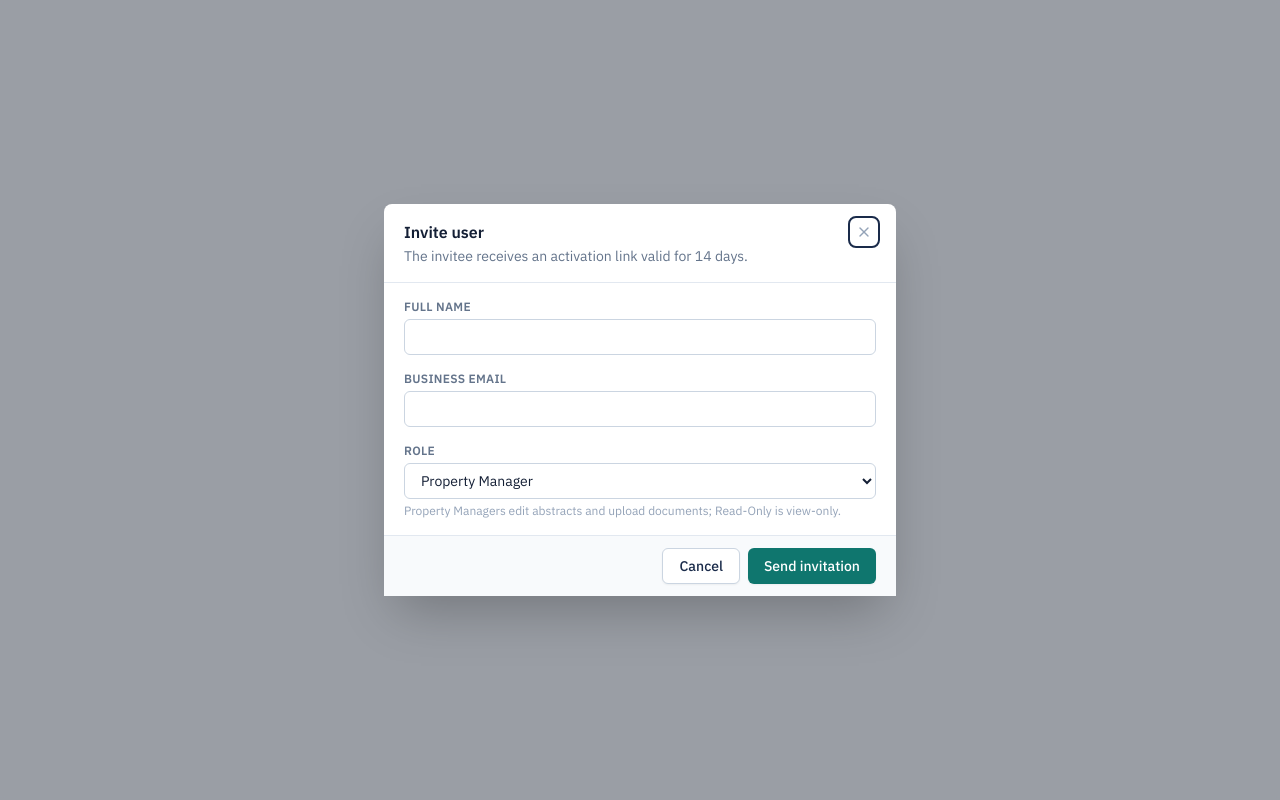
InviteUserModal › rejects malformed emails with an inline error
Step 1. Type "Dana Okafor" into the field with id "invite-name" → (640, 337), box [404,319,876,355]
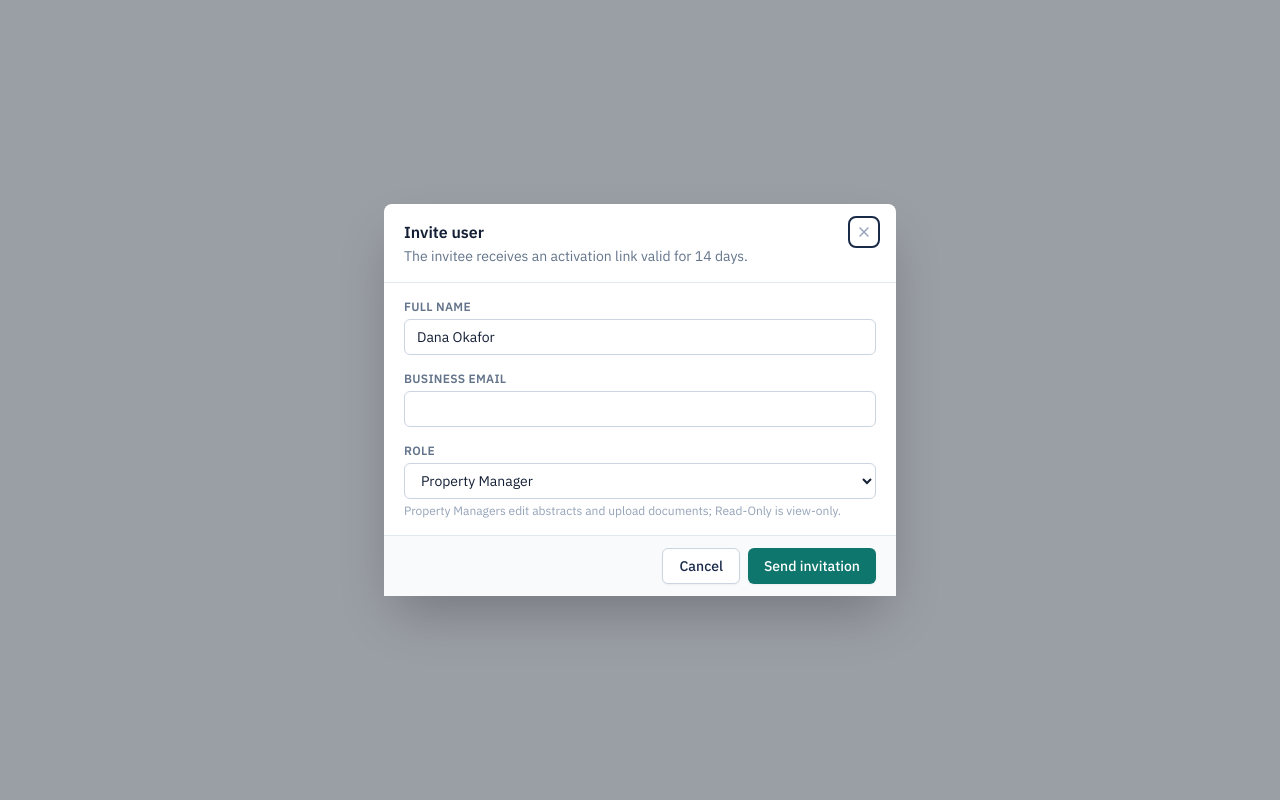
Step 2. Type "dana@leasevault" into the field with id "invite-email" → (640, 409), box [404,391,876,427]
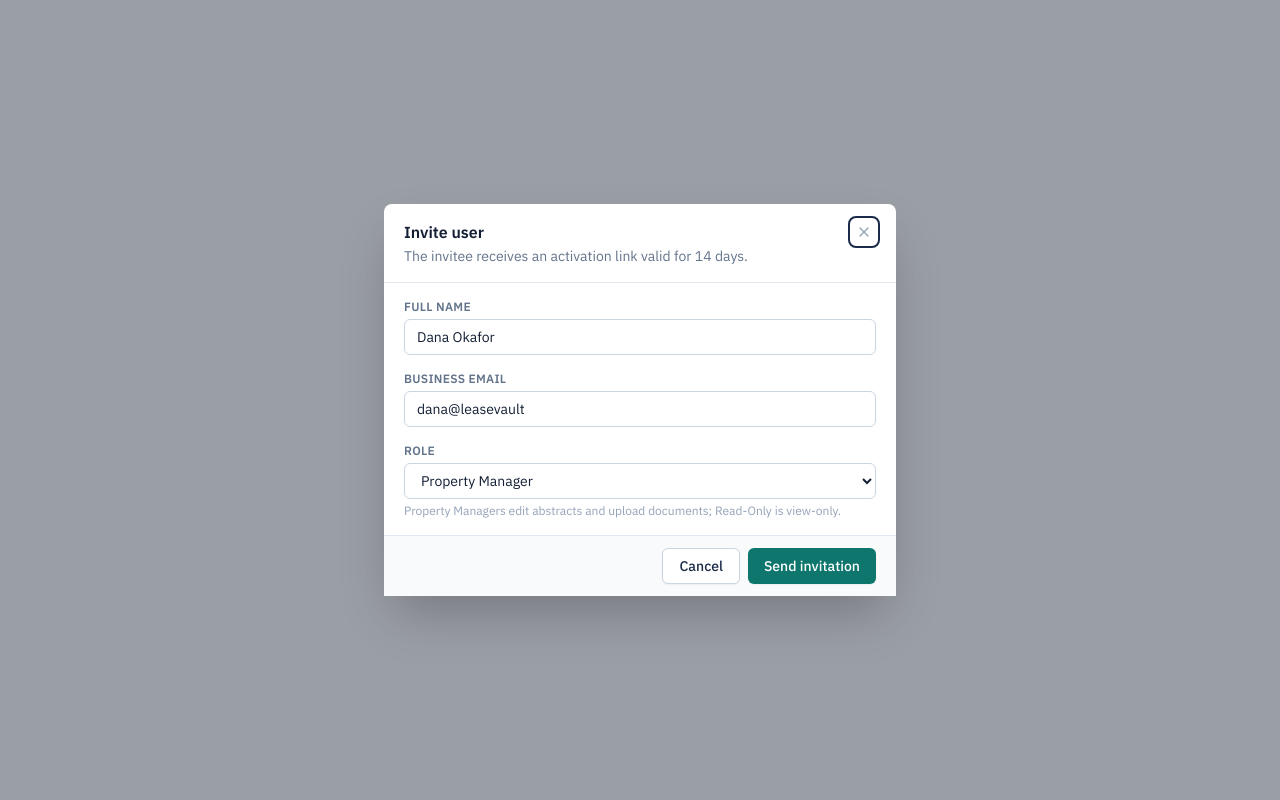
Step 3. Submit the form with id "invite-user-form", box [404,299,876,519]
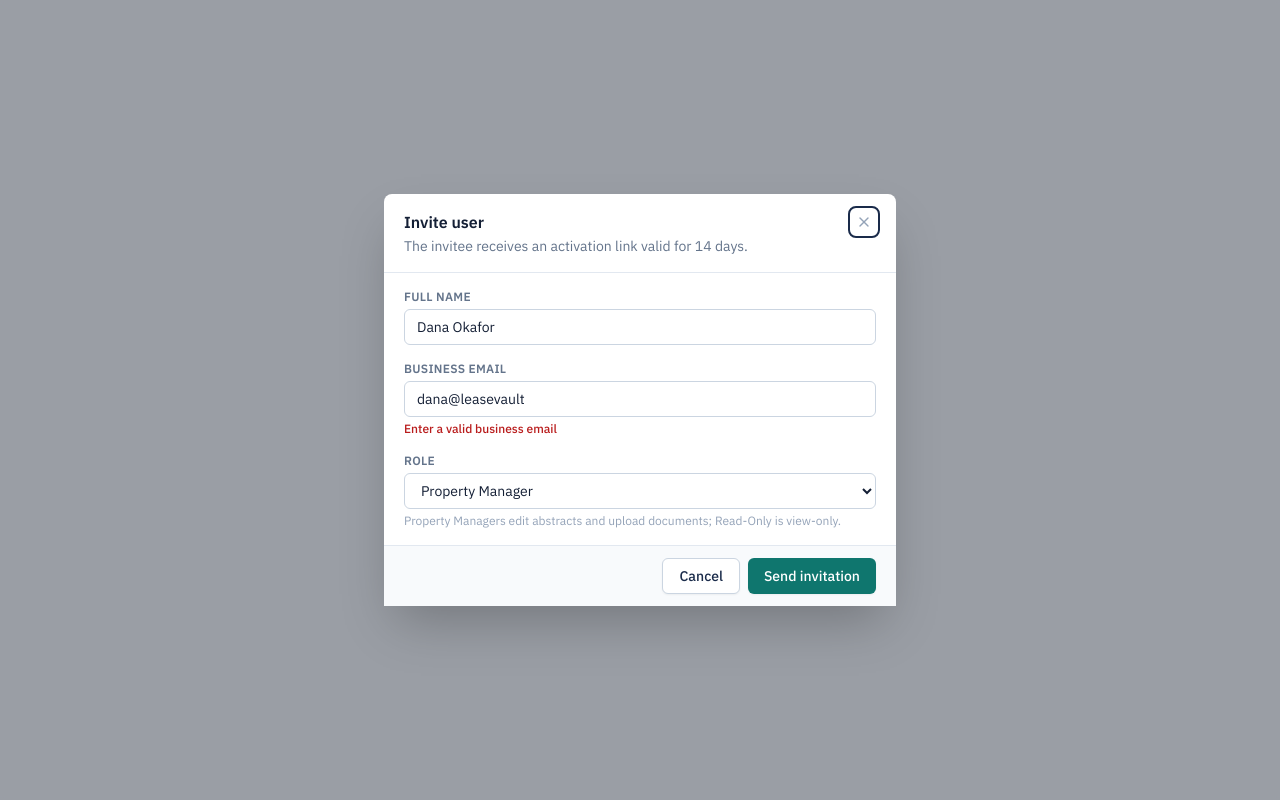
Check: the text "Enter a valid business email" is shown, box [404,421,557,436]
